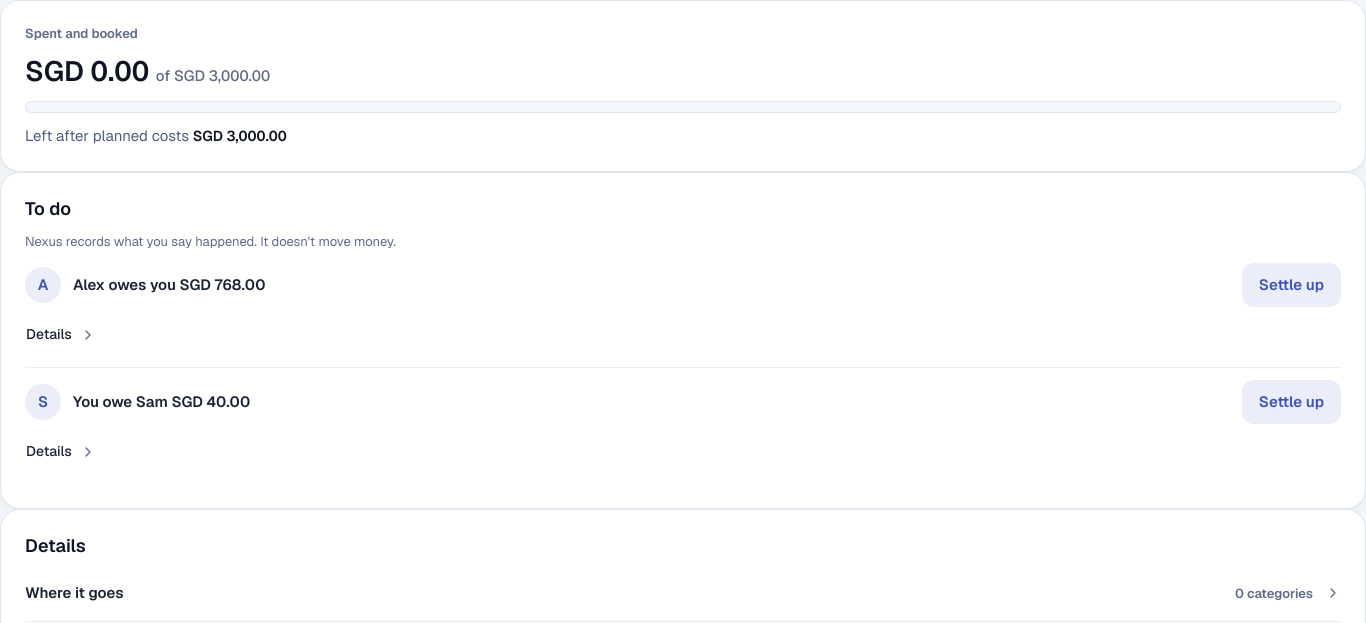
To do › has a row per person, with the items behind a Details toggle
Check: the list item "A Alex owes you SGD 768.00 Settle up Details" is shown, box 25,263 -> 1341,367
Click the button "Details" below "Alex owes you SGD 768.00": (61, 335) 13,315 -> 109,355
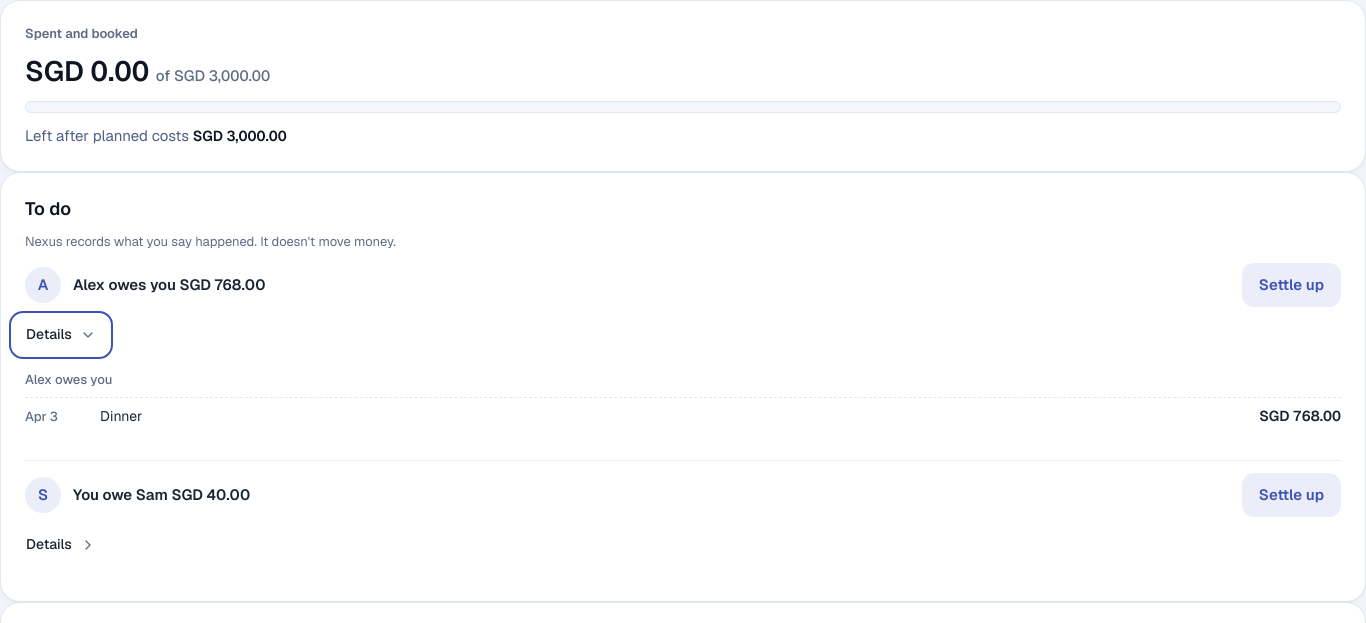
Check: the list named "What Alex owes you" shows "Dinner", box 100,407 -> 142,425
